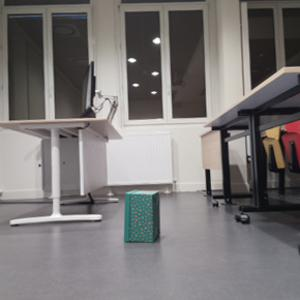small: (122, 189, 161, 244)
